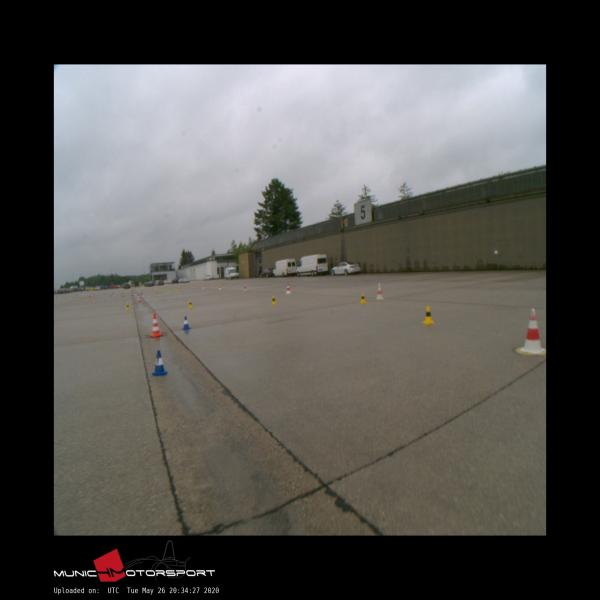blue_cone: (152, 350, 167, 376), (182, 316, 190, 330)
large_orange_cone: (149, 313, 162, 337), (137, 294, 141, 302)
yellow_cone: (423, 306, 434, 324), (360, 293, 366, 303), (271, 296, 276, 305), (188, 300, 193, 308), (126, 302, 130, 310)
